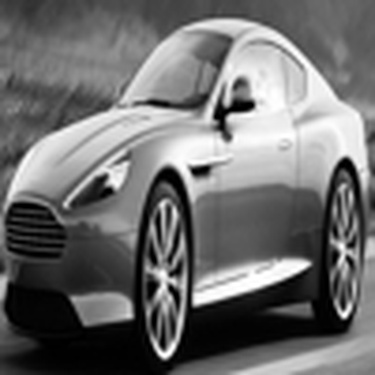car: (1, 16, 368, 371)
